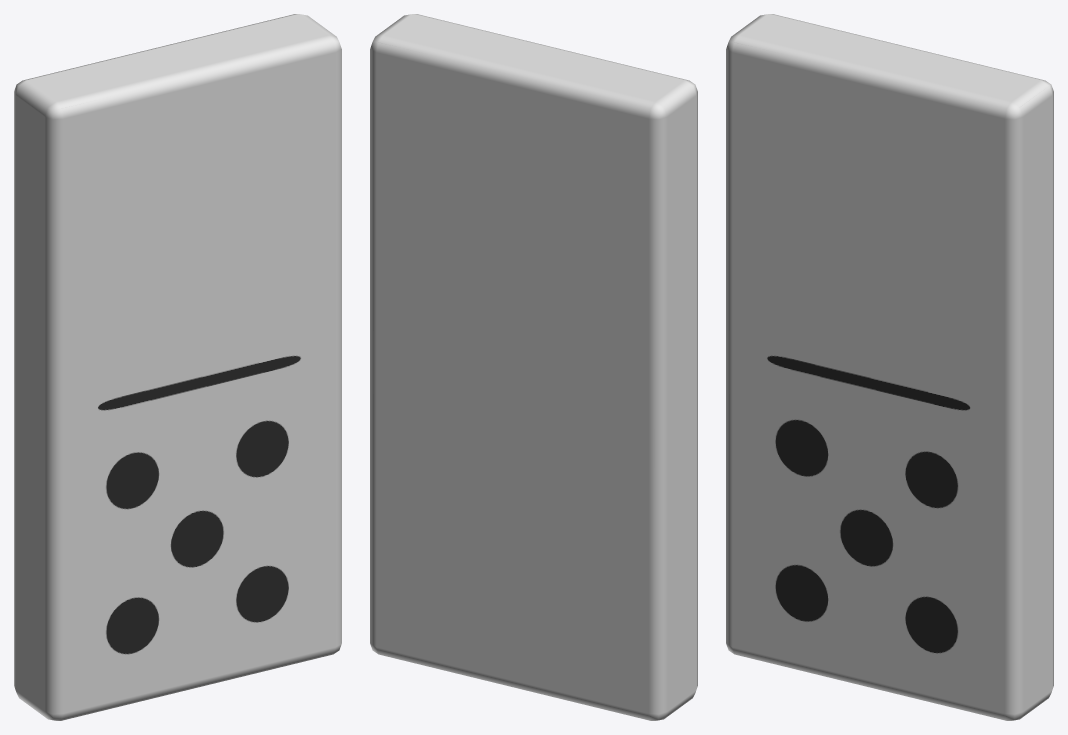
3 renders of one model, left to right at view 1: azimuth 30°, elevation 25°; view 2: azimuth 150°, elevation 25°; view 3: azimuth 330°, elevation 25°, orthographic.
Visible parts, largest first — view 1: Low; view 2: Low; view 3: Low.
Part boxes in pixels (bbox=[...]): Low: bbox=[14, 14, 341, 720]; Low: bbox=[370, 14, 697, 720]; Low: bbox=[726, 14, 1053, 720].
Size of the model in its own units: 0.0254 by 0.0508 by 0.00635.
Materials: 1 (1 with a texture image).
